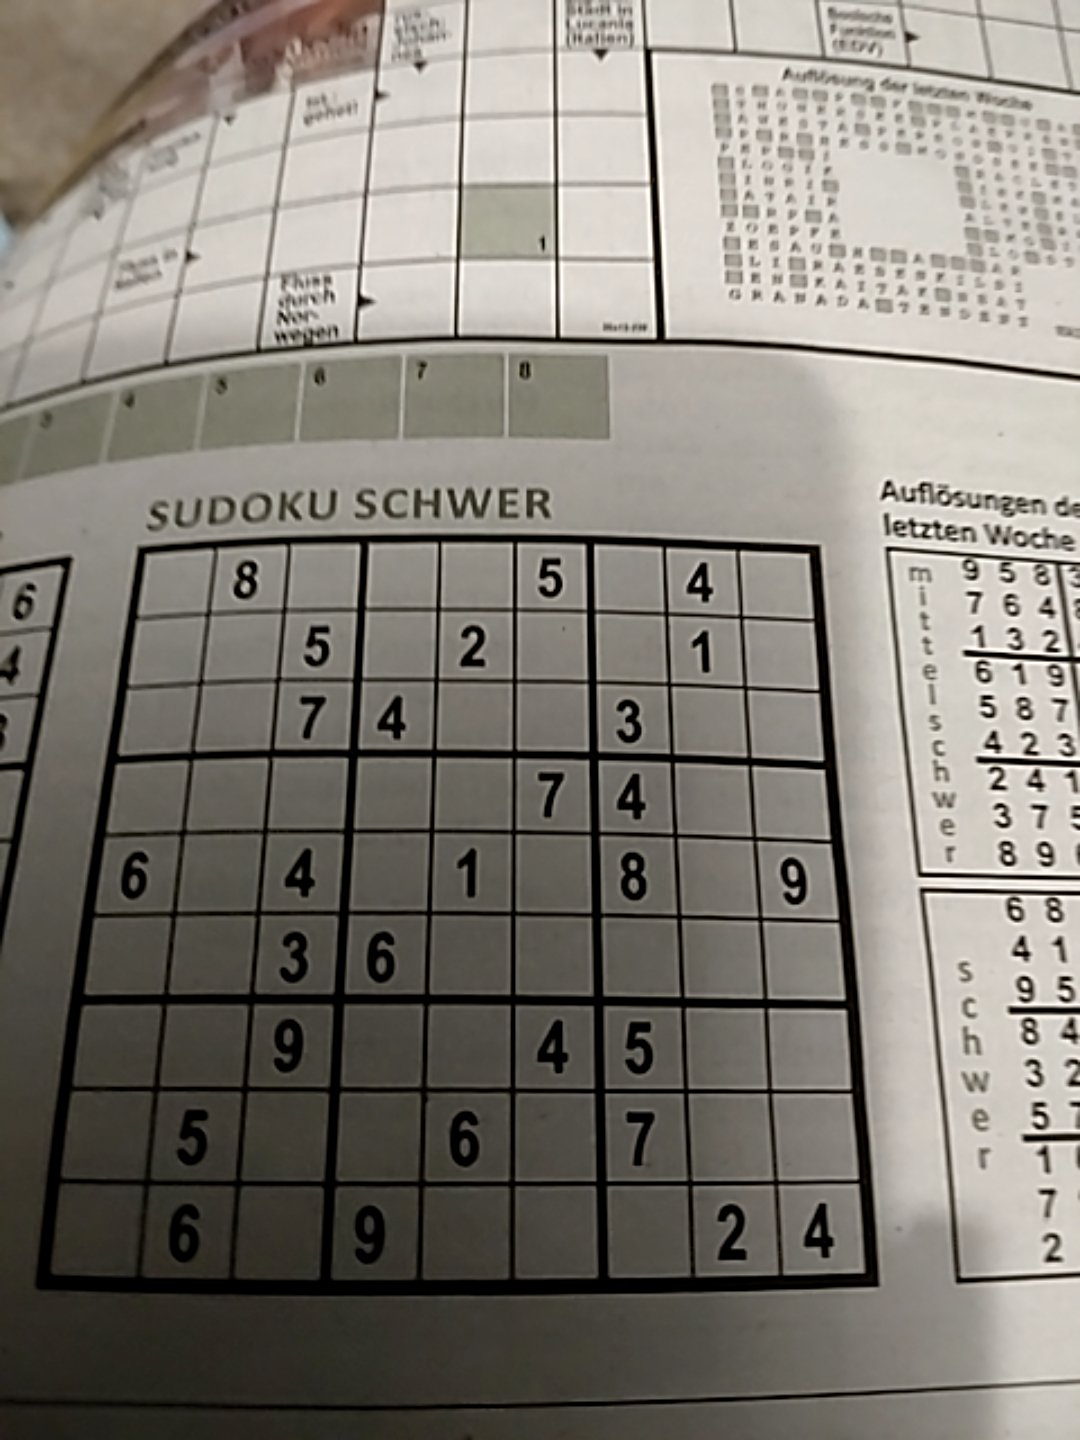sudoku: (36, 528, 884, 1291)
